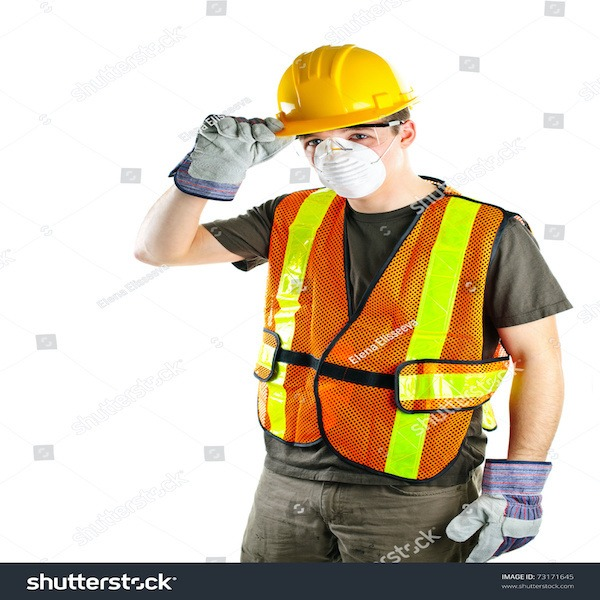helmet: (269, 45, 419, 141)
vest: (259, 186, 499, 479)
